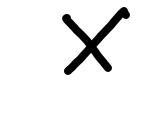mult: (61, 6, 130, 78)
